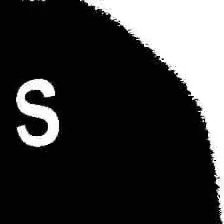LTR_S: (7, 72, 63, 150)
